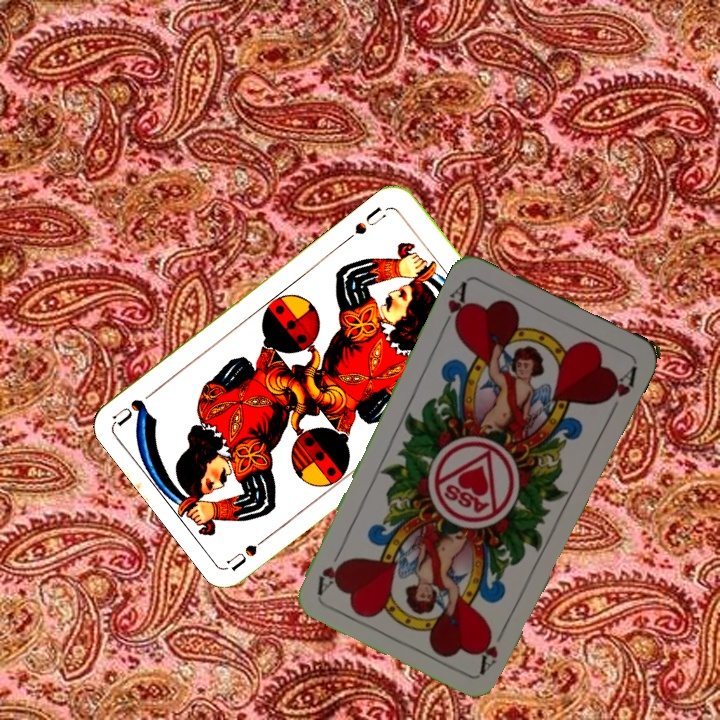HA: (437, 276, 472, 334), (475, 620, 510, 676)
SU: (224, 527, 277, 573), (341, 202, 390, 244)
